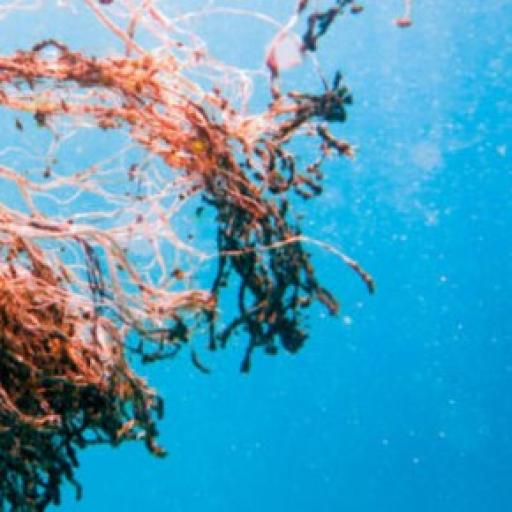net: (2, 2, 410, 512)
